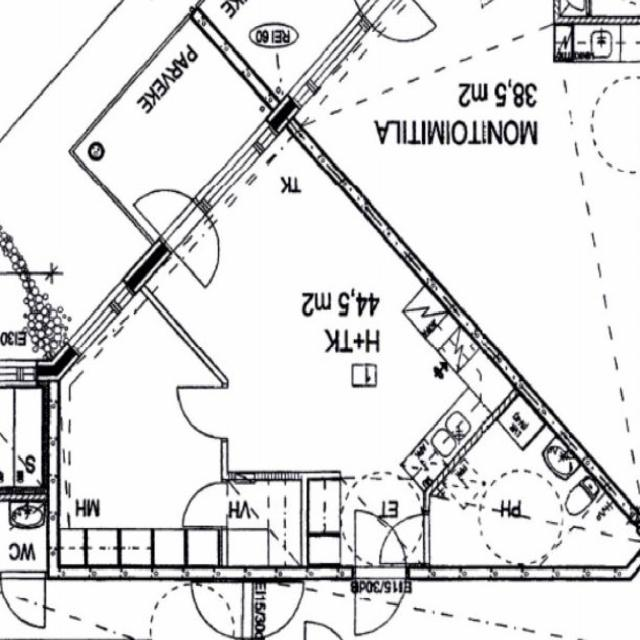door: (129, 162, 206, 252), (161, 200, 237, 288), (355, 510, 405, 580), (355, 567, 405, 637), (178, 388, 227, 437), (382, 515, 430, 563), (184, 483, 228, 526)
